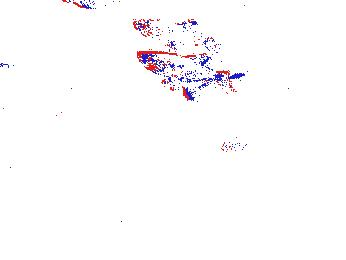red belly glassfish: (221, 134, 254, 153), (160, 77, 189, 89)
redtail glassfish: (135, 50, 241, 97), (130, 18, 223, 58)
